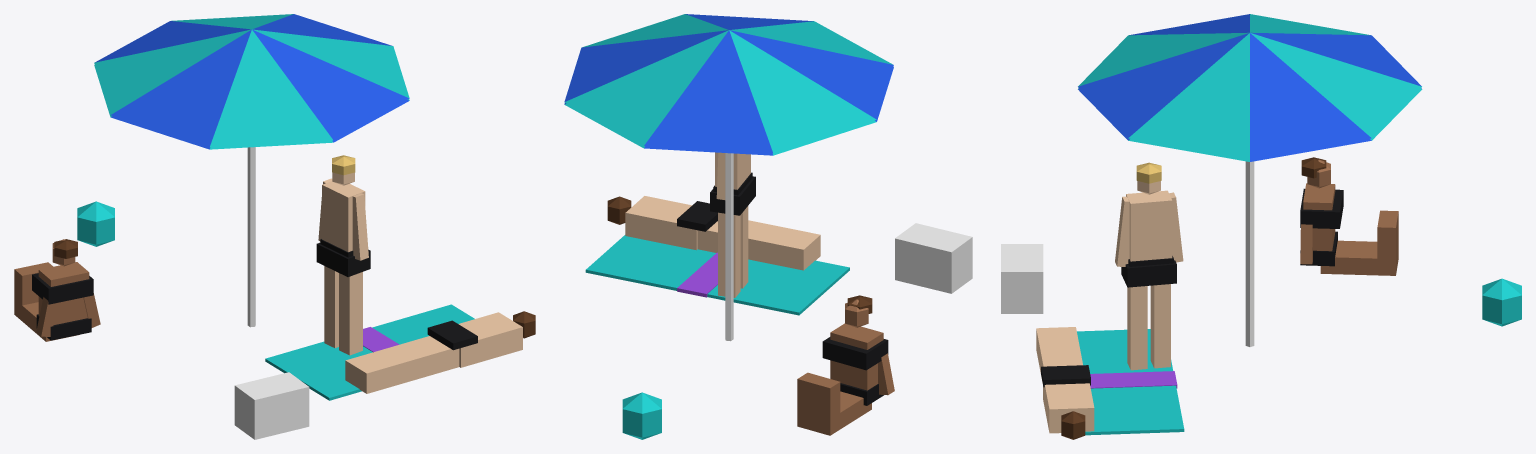
Rendered from nudista_grupo_6.obj.
3 views of the same model, side by side, from view 1: azimuth 30°, elevation 25°; view 2: azimuth 150°, elevation 25°; view 3: azimuth 270°, elevation 25° (orthographic). The views are drawn at different scales.
Parts seen in each view (by area): view 1: nudista_grupo_6; view 2: nudista_grupo_6; view 3: nudista_grupo_6.
Boxes of the visible parts, <box> form: nudista_grupo_6: <box>14,14,535,439</box>; nudista_grupo_6: <box>564,14,972,439</box>; nudista_grupo_6: <box>1001,14,1521,439</box>.
Size of the model in its own units: 3.53 by 2.6 by 3.93.
